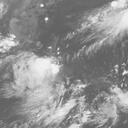cyclone: (11, 52, 61, 100)
